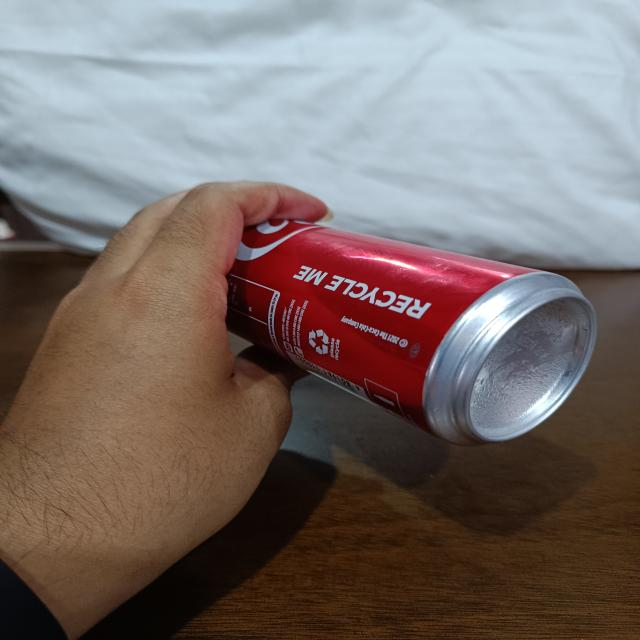coke: (192, 210, 601, 448)
